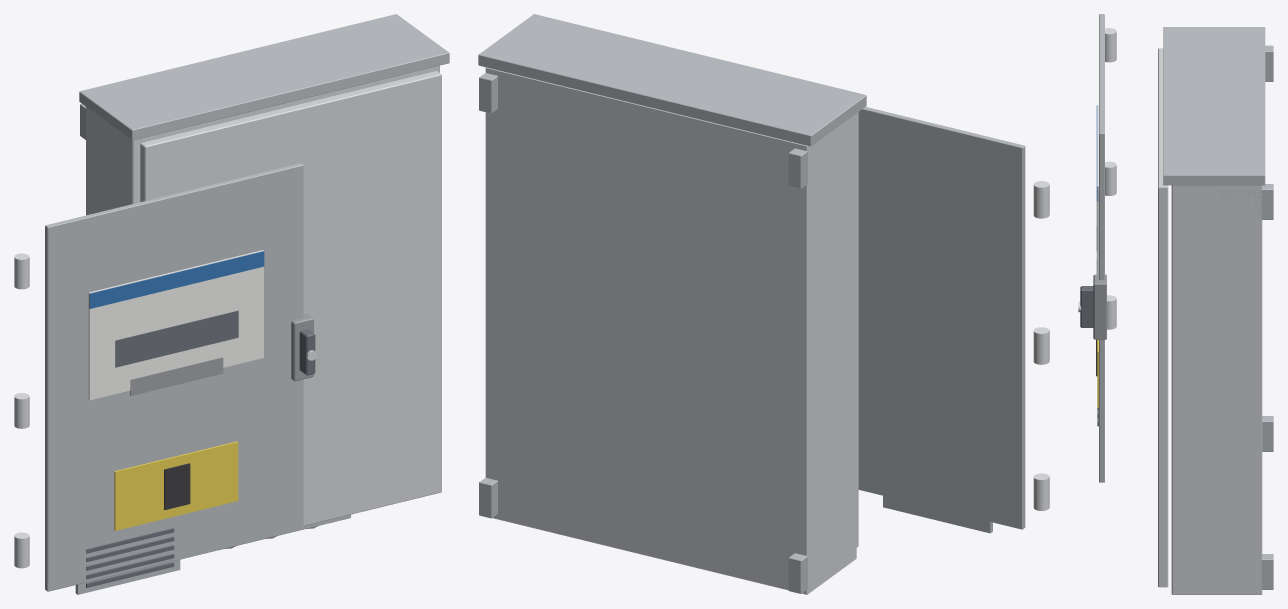
3 renders of one model, left to right at view 1: azimuth 30°, elevation 25°; view 2: azimuth 150°, elevation 25°; view 3: azimuth 270°, elevation 25°, orthographic. The views are drawn at different scales.
Visible parts, largest first — view 1: DB_DoorAssembly, DB_DoorPanel, DB_Hood, DB_DoorLabel, DB_DoorSticker, DB_Box, DB_DoorLabelTxt, DB_DoorLabelStrip, DB_DoorLabelTxt2, DB_DoorStickerBolt, DB_HandleBase, DB_LouvrePanel (+1 smaller); view 2: DB_Box, DB_DoorPanel, DB_Hood, DB_LouvrePanel, DB_DoorAssembly, DB_Flange, DB_Flange.001; view 3: DB_Box, DB_Hood, DB_DoorAssembly, DB_DoorPanel, DB_HandleBase, DB_Flange.003, DB_Handle, DB_Flange.002, DB_Flange, DB_Hinge.002, DB_Hinge.001, DB_Hinge (+2 smaller).
Boxes of the visible parts, x1,y1,x2,y2 form: DB_DoorAssembly: [140, 71, 441, 525]; DB_DoorPanel: [45, 163, 303, 591]; DB_Hood: [79, 14, 449, 140]; DB_DoorLabel: [88, 250, 263, 400]; DB_DoorSticker: [114, 441, 238, 530]; DB_Box: [86, 65, 439, 215]; DB_DoorLabelTxt: [115, 310, 238, 367]; DB_DoorLabelStrip: [89, 251, 264, 308]; DB_DoorLabelTxt2: [130, 357, 223, 395]; DB_DoorStickerBolt: [164, 463, 190, 509]; DB_HandleBase: [291, 313, 313, 381]; DB_LouvrePanel: [75, 559, 180, 594]; DB_Box: [485, 67, 856, 594]; DB_DoorPanel: [858, 106, 1025, 529]; DB_Hood: [478, 14, 866, 146]; DB_LouvrePanel: [883, 457, 992, 533]; DB_DoorAssembly: [856, 112, 858, 547]; DB_Flange: [788, 553, 807, 593]; DB_Flange.001: [788, 148, 809, 188]; DB_Box: [1171, 185, 1262, 594]; DB_Hood: [1163, 27, 1265, 185]; DB_DoorAssembly: [1158, 48, 1168, 587]; DB_DoorPanel: [1099, 14, 1104, 482]; DB_HandleBase: [1093, 274, 1106, 339]; DB_Flange.003: [1218, 184, 1273, 219]; DB_Handle: [1080, 286, 1093, 327]; DB_Flange.002: [1261, 554, 1273, 589]; DB_Flange: [1262, 416, 1273, 451]; DB_Hinge.002: [1105, 28, 1116, 62]; DB_Hinge.001: [1105, 161, 1116, 195]; DB_Hinge: [1107, 295, 1116, 329].
Bounding box in the file's own units: 0.9027 × 0.86 × 0.345.
